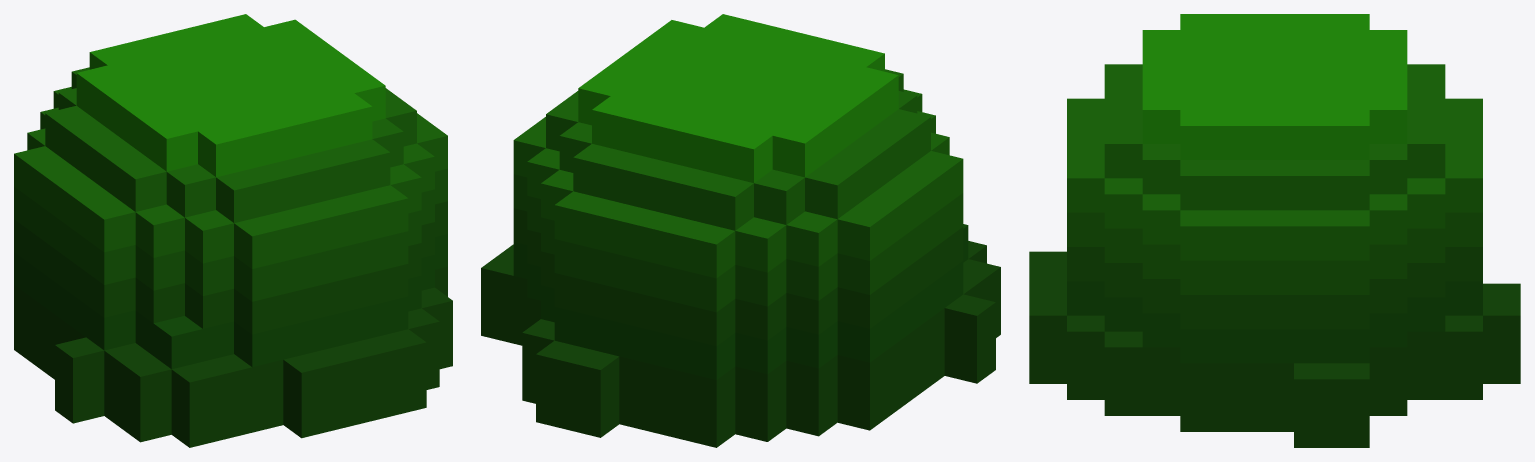
Rendered from Slime.obj.
3 views of the same model, side by side, from view 1: azimuth 30°, elevation 25°; view 2: azimuth 150°, elevation 25°; view 3: azimuth 270°, elevation 25° (orthographic). The views are drawn at different scales.
Bounding box in the file's own units: 1.3 × 0.8 × 1.3.
1 material, 1 textured.
